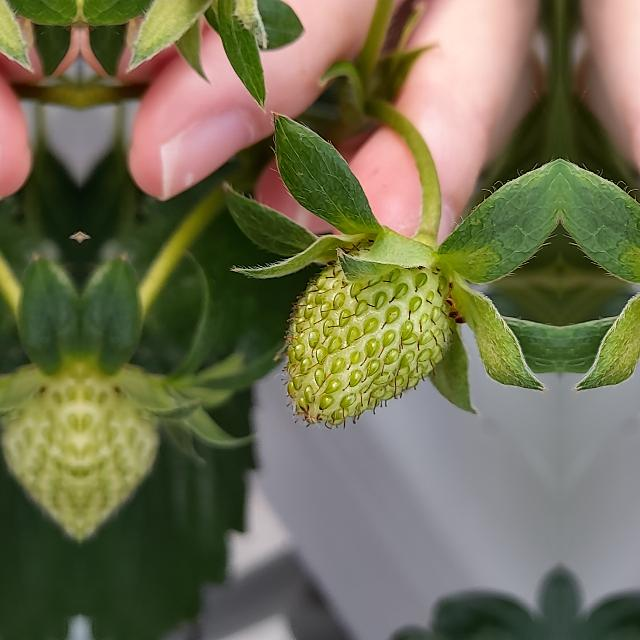Health_25: (281, 242, 454, 430)
